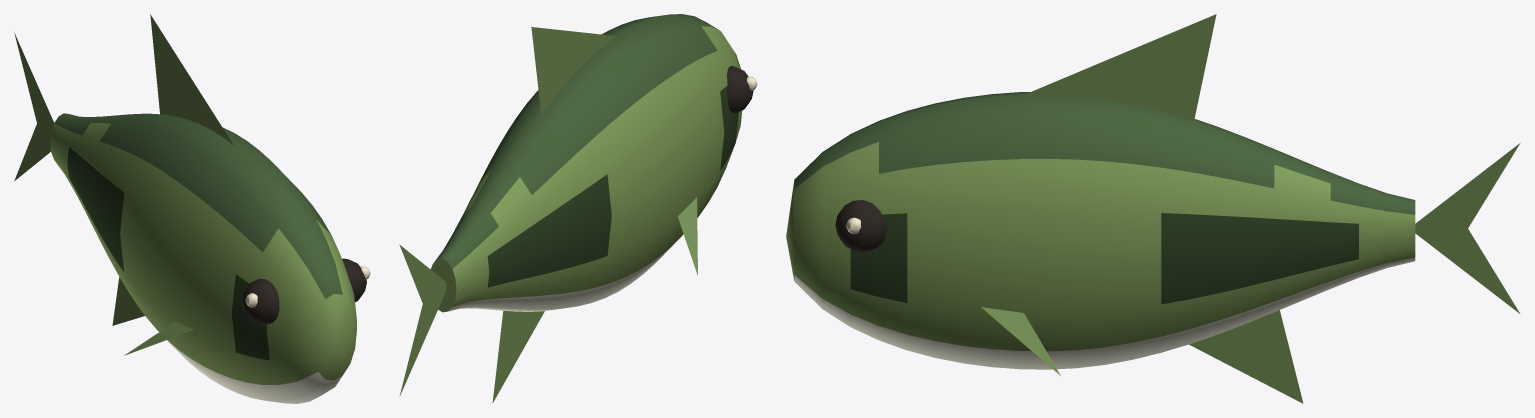
Rendered from largemouth_bass.fbx.
The picture shows the model from 3 angles, left to right: view 1: azimuth 30°, elevation 25°; view 2: azimuth 150°, elevation 25°; view 3: azimuth 270°, elevation 25°; orthographic projection. The views are drawn at different scales.
Parts seen in each view (by area): view 1: Fish_largemouth_bass_EXP; view 2: Fish_largemouth_bass_EXP; view 3: Fish_largemouth_bass_EXP.
Boxes of the visible parts, box(x1,y1,x2,y2) form: Fish_largemouth_bass_EXP: box(14, 14, 370, 403); Fish_largemouth_bass_EXP: box(399, 14, 757, 402); Fish_largemouth_bass_EXP: box(786, 14, 1520, 403).
Bounding box in the file's own units: 0.2024 × 0.3465 × 0.5916.
